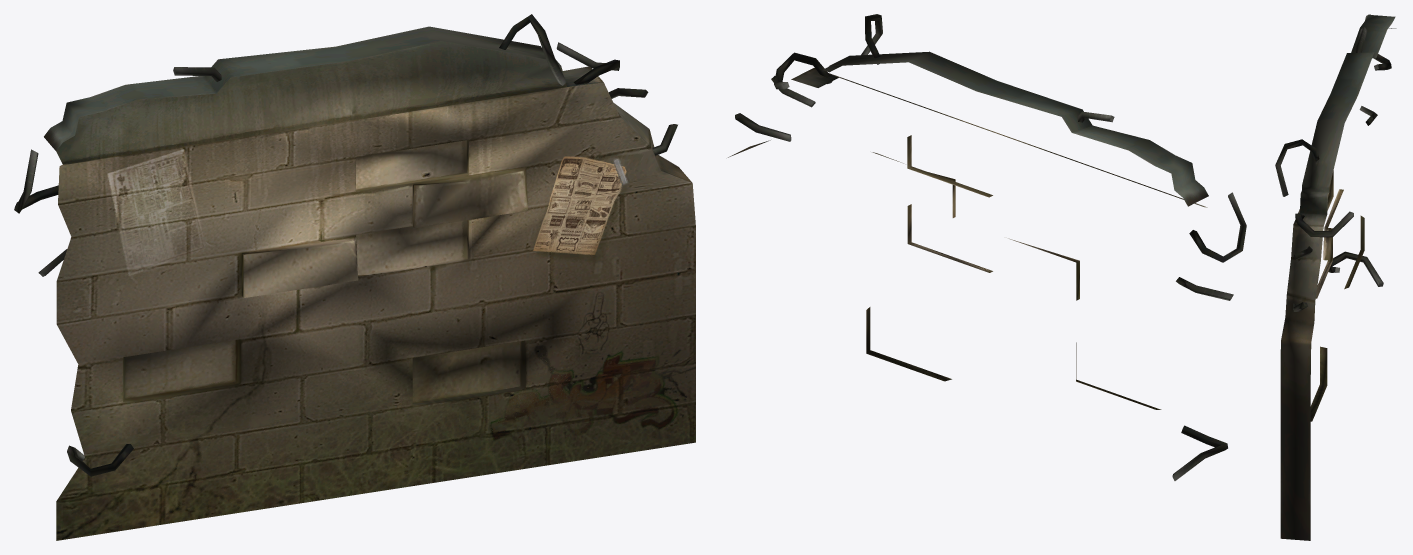
The model's file is Cover_Wall.glb.
3 renders of one model, left to right at view 1: azimuth 30°, elevation 25°; view 2: azimuth 150°, elevation 25°; view 3: azimuth 270°, elevation 25°, orthographic. The views are drawn at different scales.
Parts seen in each view (by area): view 1: wall; view 2: wall; view 3: wall.
Part boxes in pixels (x1=…): wall: x1=14, y1=14, x2=695, y2=540; wall: x1=728, y1=14, x2=1246, y2=480; wall: x1=1275, y1=14, x2=1396, y2=540.
Size of the model in its own units: 3.89 by 2.69 by 0.8777.
1 material, 1 textured.
